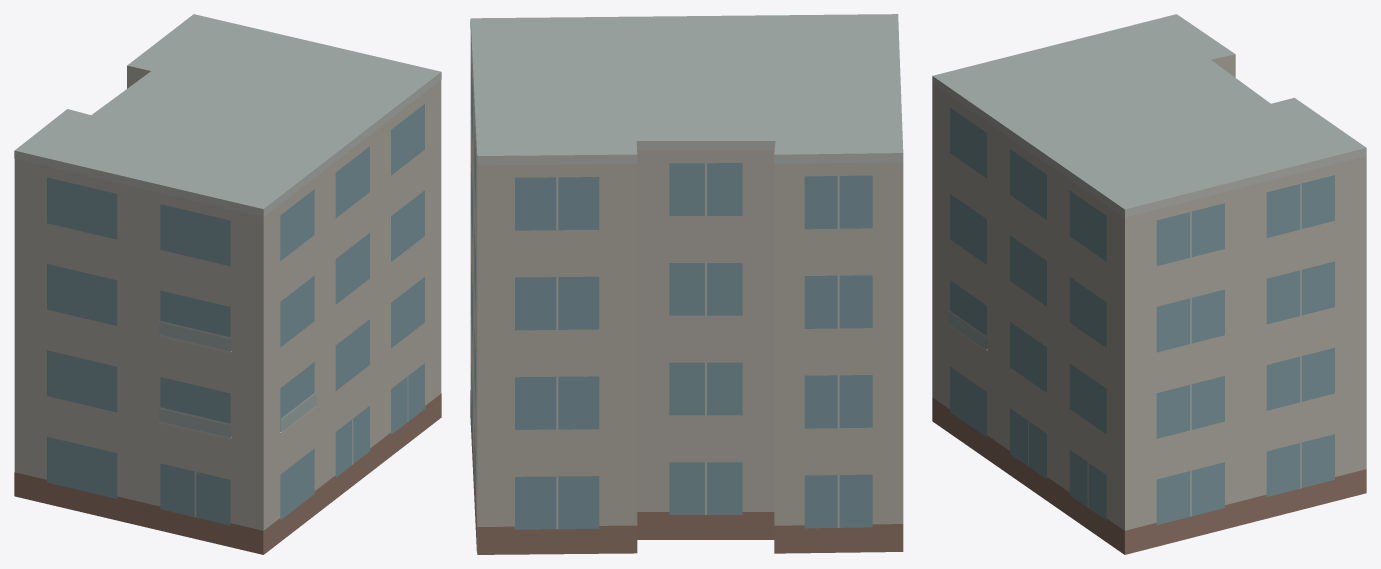
Rendered from survey-upis-32763861.glb.
The picture shows the model from 3 angles, left to right: view 1: azimuth 30°, elevation 25°; view 2: azimuth 150°, elevation 25°; view 3: azimuth 270°, elevation 25°; orthographic projection. The views are drawn at different scales.
Parts seen in each view (by area): view 1: survey-upis-32763861.tmp; view 2: survey-upis-32763861.tmp; view 3: survey-upis-32763861.tmp.
Boxes of the visible parts, left/top/right/bottom form: survey-upis-32763861.tmp: left=14, top=14, right=441, bottom=554; survey-upis-32763861.tmp: left=470, top=14, right=903, bottom=554; survey-upis-32763861.tmp: left=932, top=14, right=1366, bottom=554.
Size of the model in its own units: 12.75 by 10.5 by 11.98.
